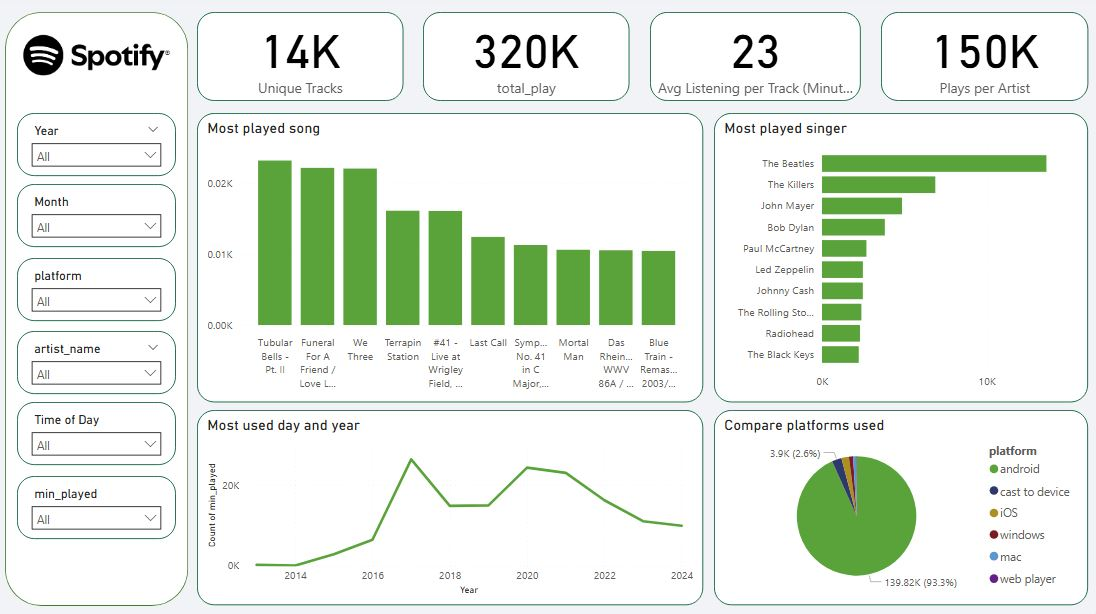

Layout of this report page (visuals, bound fields, positions):
{"tool":"powerbi","page":{"name":"F","canvas":[1280,720],"ordinal":0},"visuals":[{"type":"shape","box":[9,18,212,687.6],"z":0},{"type":"columnChart","title":"Most played song","fields":{"Category":["spotify_history.track_name"],"Y":["Sum(spotify_history.min_played)"]},"box":[231.3,134.9,586,335.4],"z":1000},{"type":"barChart","title":"Most played singer","fields":{"Category":["spotify_history.artist_name"],"Y":["spotify_history.Plays per Artist"]},"box":[830.2,134.9,433.1,335.4],"z":2000},{"type":"lineChart","title":"Most used day and year","fields":{"Category":["spotify_history.data_start.Variation.Date Hierarchy.Year","spotify_history.data_start.Variation.Date Hierarchy.Month","spotify_history.data_start.Variation.Date Hierarchy.Day"],"Y":["CountNonNull(spotify_history.min_played)"]},"box":[231.3,479.4,586,226.2],"z":3000},{"type":"pieChart","title":"Compare platforms used","fields":{"Category":["spotify_history.platform"],"Y":["CountNonNull(spotify_history.data_start)"]},"box":[830.2,479.4,433.1,226.2],"z":4000},{"type":"card","fields":{"Values":["spotify_history.Avg Listening per Track (Minutes)"]},"box":[755.7,18,244.2,102.8],"z":5000},{"type":"card","fields":{"Values":["spotify_history.Plays per Artist"]},"box":[1023,18,240.3,102.8],"z":6000},{"type":"card","fields":{"Values":["spotify_history.total_play"]},"box":[493.5,18,239,102.8],"z":7000},{"type":"slicer","fields":{"Values":["spotify_history.data_start.Variation.Date Hierarchy.Year"]},"box":[23.1,134.9,183.8,73.3],"z":9000},{"type":"slicer","fields":{"Values":["spotify_history.data_start.Variation.Date Hierarchy.Month"]},"box":[23.1,217.2,183.8,73.3],"z":10000},{"type":"slicer","fields":{"Values":["spotify_history.platform"]},"box":[23.1,303.3,183.8,73.3],"z":11000},{"type":"slicer","fields":{"Values":["spotify_history.artist_name"]},"box":[23.1,388.1,183.8,73.3],"z":12000},{"type":"slicer","fields":{"Values":["spotify_history.Time of Day"]},"box":[23.1,470.4,183.8,73.3],"z":13000},{"type":"image","box":[22.6,18.6,183.8,99.9],"z":14000},{"type":"slicer","fields":{"Values":["spotify_history.min_played"]},"box":[22.6,555.4,183.8,73.3],"z":15000},{"type":"card","fields":{"Values":["spotify_history.Unique Tracks"]},"box":[231.3,18,239,102.8],"z":15001}]}

Visuals, with their boxes in screenshot pixels (x1, y1, x2, y2), scaled from the page's 1280x720 canvas onto the 1096x614 screenshot:
shape: (x1=8, y1=15, x2=189, y2=602)
"Most played song" columnChart: (x1=198, y1=115, x2=700, y2=401)
"Most played singer" barChart: (x1=711, y1=115, x2=1082, y2=401)
"Most used day and year" lineChart: (x1=198, y1=409, x2=700, y2=602)
"Compare platforms used" pieChart: (x1=711, y1=409, x2=1082, y2=602)
card - spotify_history.Avg Listening per Track (Minutes): (x1=647, y1=15, x2=856, y2=103)
card - spotify_history.Plays per Artist: (x1=876, y1=15, x2=1082, y2=103)
card - spotify_history.total_play: (x1=423, y1=15, x2=627, y2=103)
slicer - spotify_history.data_start.Variation.Date Hierarchy.Year: (x1=20, y1=115, x2=177, y2=178)
slicer - spotify_history.data_start.Variation.Date Hierarchy.Month: (x1=20, y1=185, x2=177, y2=248)
slicer - spotify_history.platform: (x1=20, y1=259, x2=177, y2=321)
slicer - spotify_history.artist_name: (x1=20, y1=331, x2=177, y2=393)
slicer - spotify_history.Time of Day: (x1=20, y1=401, x2=177, y2=464)
image: (x1=19, y1=16, x2=177, y2=101)
slicer - spotify_history.min_played: (x1=19, y1=474, x2=177, y2=536)
card - spotify_history.Unique Tracks: (x1=198, y1=15, x2=403, y2=103)
